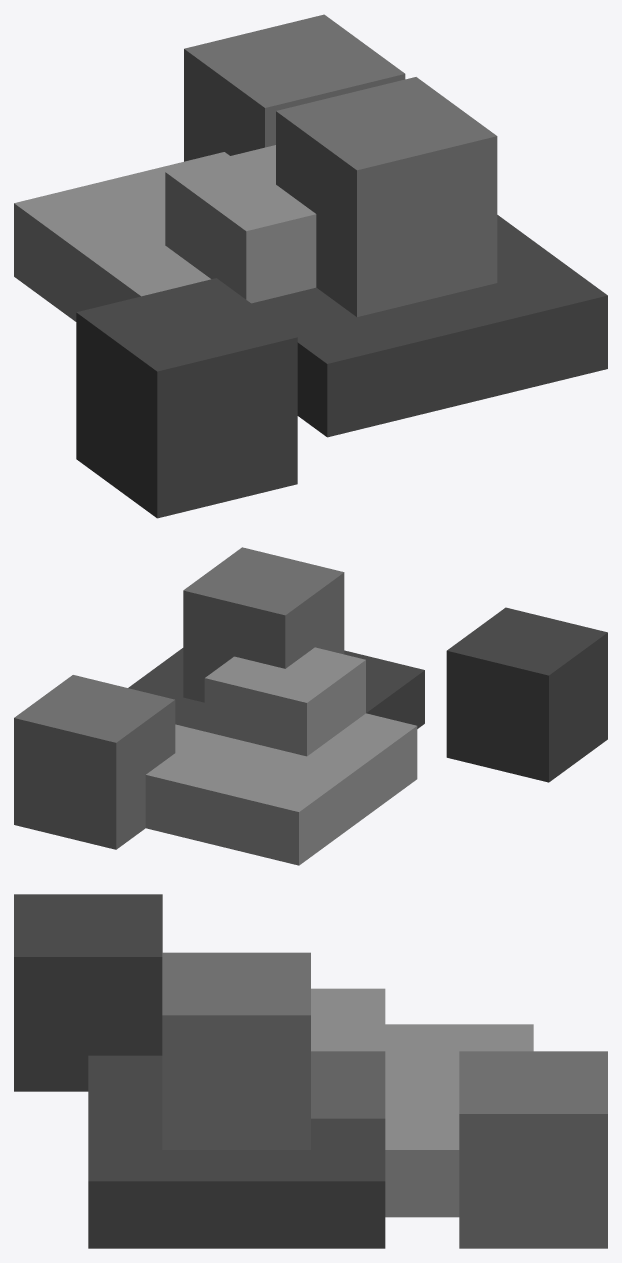
Rendered from Rocks-3.obj.
3 views of the same model, one above another, from view 1: azimuth 30°, elevation 25°; view 2: azimuth 150°, elevation 25°; view 3: azimuth 270°, elevation 25° (orthographic). The views are drawn at different scales.
Parts seen in each view (by area): view 1: Rocks-3; view 2: Rocks-3; view 3: Rocks-3.
Boxes of the visible parts, x1=… form: Rocks-3: x1=14, y1=14, x2=607, y2=518; Rocks-3: x1=14, y1=547, x2=607, y2=865; Rocks-3: x1=14, y1=894, x2=607, y2=1248.
Bounding box in the file's own units: 7 × 3 × 8.
Materials: 1 (1 with a texture image).
